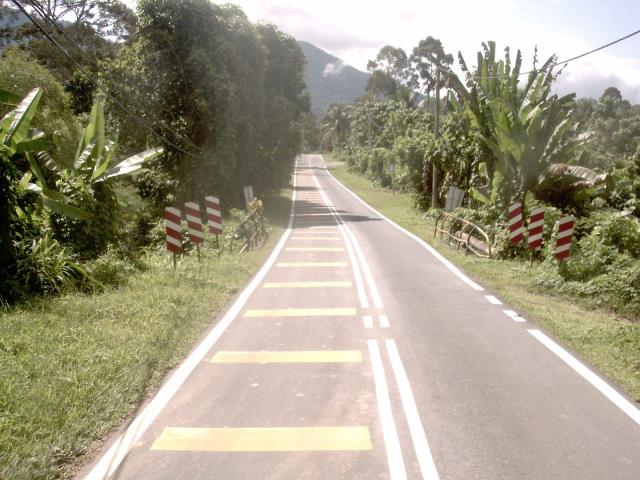traffic_sign: (162, 200, 188, 256), (179, 195, 206, 248), (553, 210, 579, 265), (524, 202, 548, 256), (505, 194, 527, 249), (203, 189, 225, 240)
